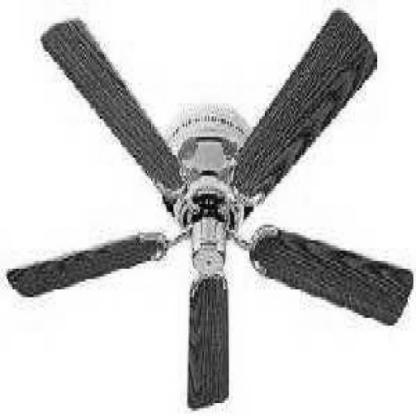ceiling-fan: (6, 8, 410, 409)
